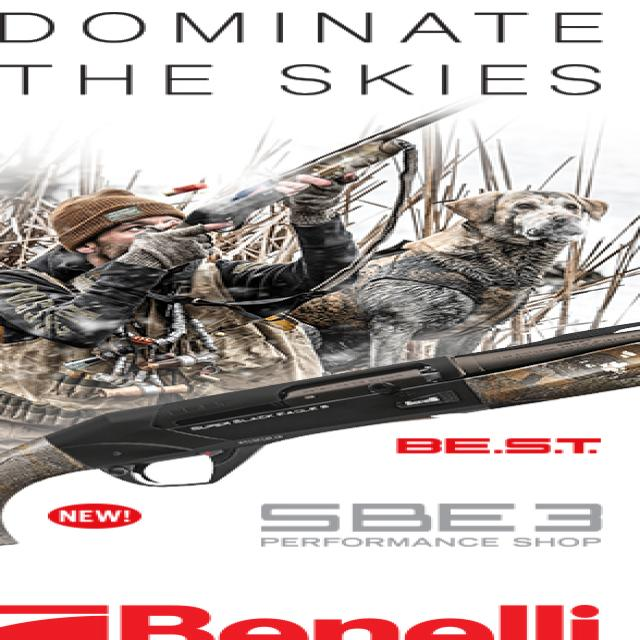Weapon: (0, 324, 640, 544)
